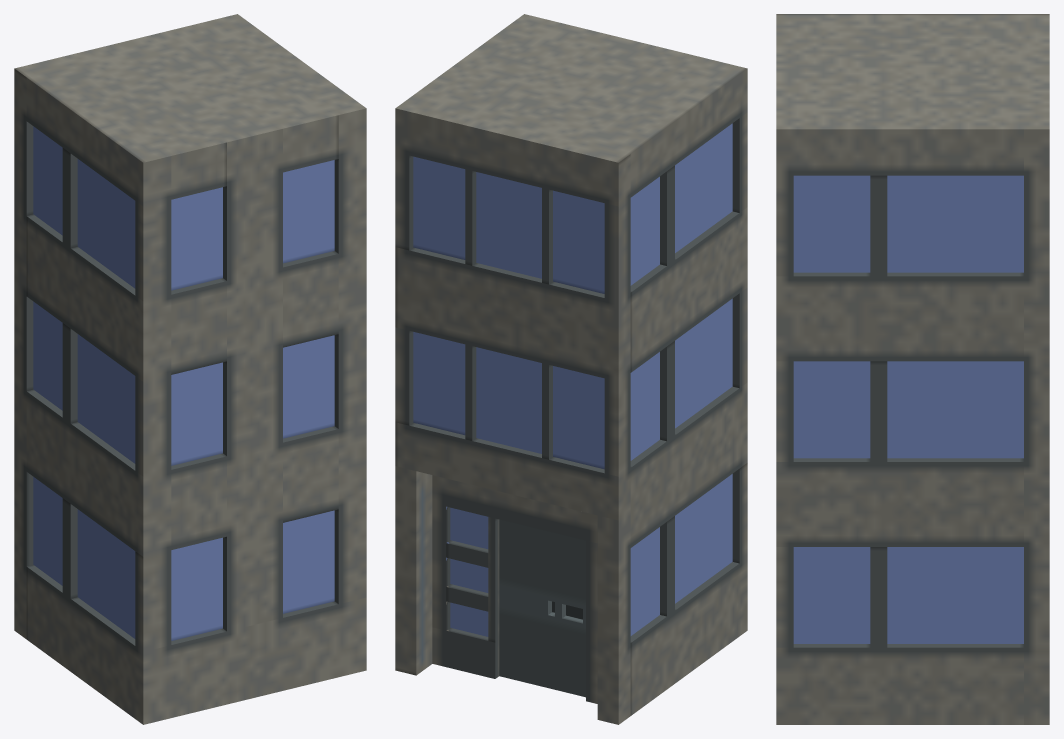
3 renders of one model, left to right at view 1: azimuth 30°, elevation 25°; view 2: azimuth 150°, elevation 25°; view 3: azimuth 270°, elevation 25°, orthographic. The views are drawn at different scales.
Parts seen in each view (by area): view 1: Content; view 2: Content; view 3: Content.
Boxes of the visible parts, bbox=[...] form: Content: bbox=[14, 14, 366, 724]; Content: bbox=[395, 14, 747, 724]; Content: bbox=[776, 14, 1049, 724].
Size of the model in its own units: 32 by 77 by 32.
Materials: 1 (1 with a texture image).
